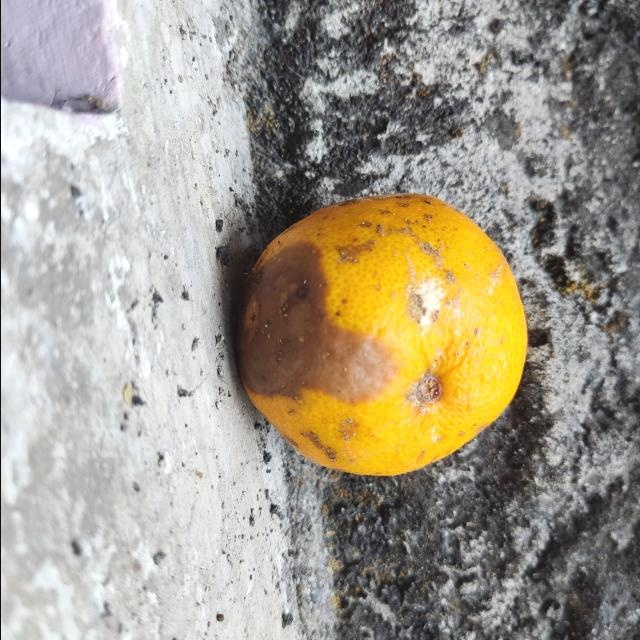agrume: (228, 190, 527, 475)
